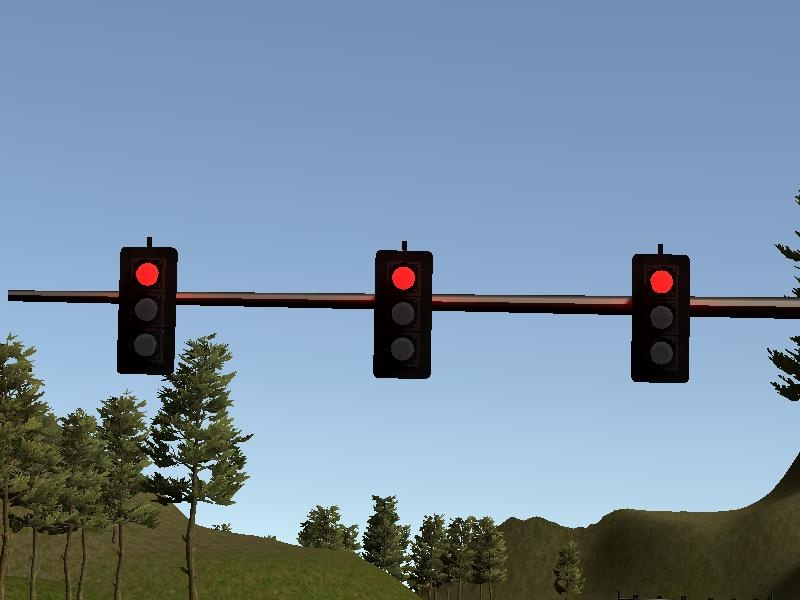red: (112, 244, 179, 378), (370, 247, 435, 383), (629, 250, 692, 386)
